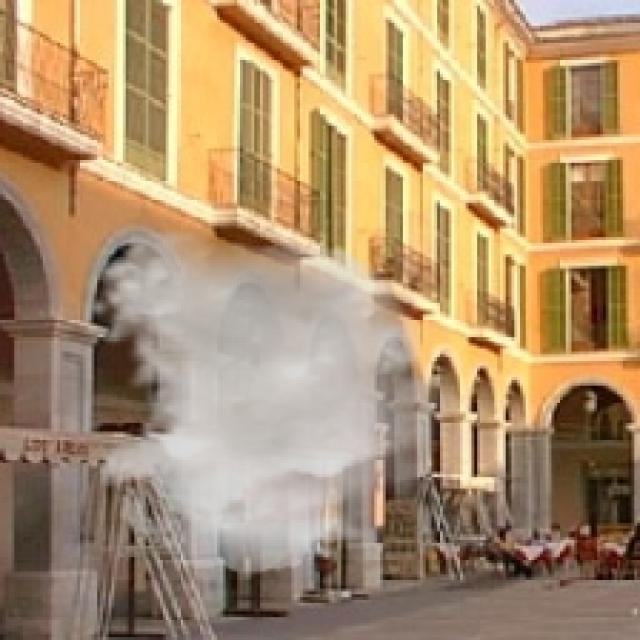smoke: (86, 229, 474, 574)
